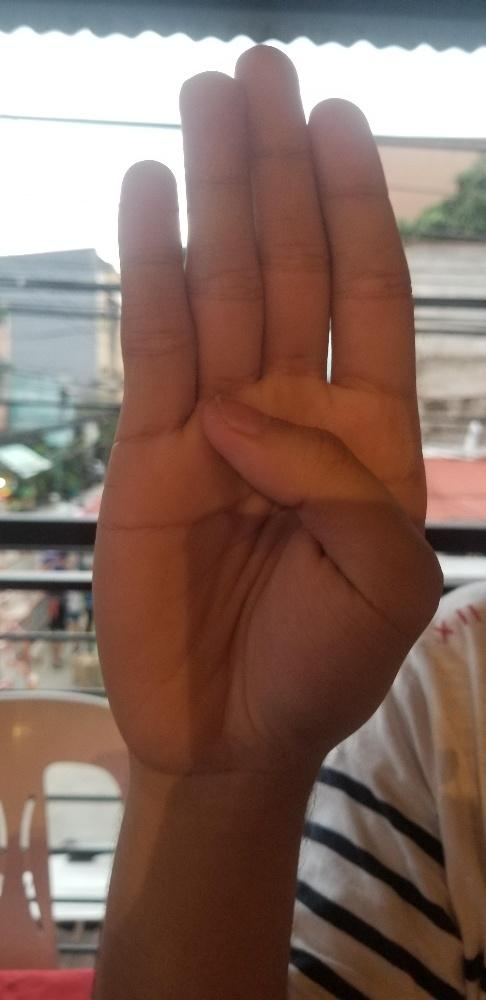b: (89, 40, 444, 767)
